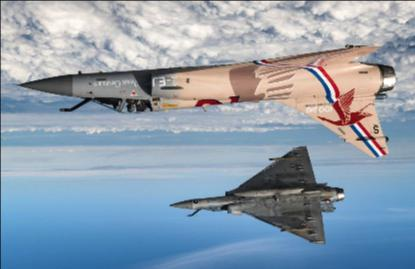Mirage2000: (16, 45, 395, 156), (168, 145, 343, 243)
